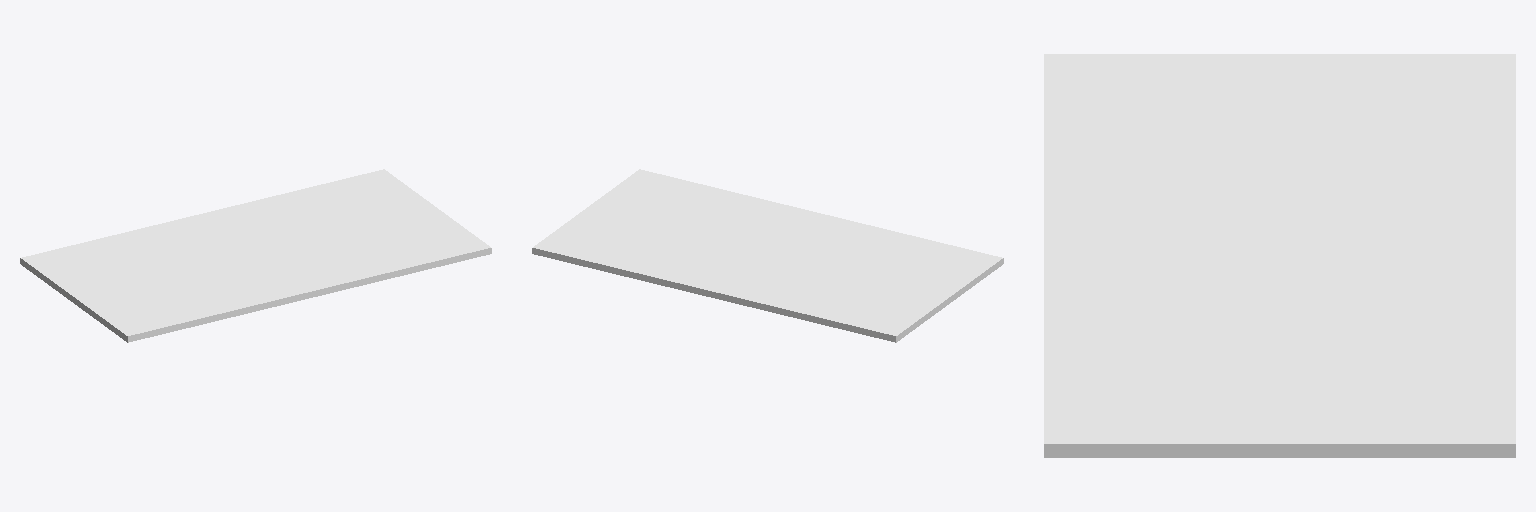
URDF robot description (wall2_3.urdf):
<?xml version="1.0" ?>
<robot name="wall2_3.urdf">
  <link name="baseLink">
    <inertial>
      <origin rpy="0 0 0" xyz="0 0 0"/>
       <mass value="0.0"/>
       <inertia ixx="0" ixy="0" ixz="0" iyy="0" iyz="0" izz="0"/>
    </inertial>
    <visual>
      <origin rpy="0 0 0" xyz="0 0 0"/>
      <geometry>
        <mesh filename="wall2_3.obj" scale="1.0 1.0 1.0"/>
      </geometry>
      <material name="white">
       <color rgba="1 1 1 1"/>
     </material>
    </visual>
    <collision concave="yes">
      <origin rpy="0 0 0" xyz="0 0 0"/>
      <geometry>
        <mesh filename="wall2_3.obj" scale="1.0 1.0 1.0"/>
        <!-- You could also specify the collision (for the wall2_3) with a "box" tag: -->
        <!-- <box size=".06 .06 .06"/> -->
      </geometry>
    </collision>
  </link>
</robot>
        

--- What the picture shows (computed from the rendered views, not written in the file) ---
Views: 3 orthographic renders of the robot side by side, from view 1: azimuth 30°, elevation 25°; view 2: azimuth 150°, elevation 25°; view 3: azimuth 270°, elevation 25°.
Model wall2_3.urdf with 1 links and 0 joints (none), rooted at baseLink, posed every joint at zero.
Visible links, largest first — view 1: baseLink; view 2: baseLink; view 3: baseLink.
Boxes of the visible links, bbox=[...] form: baseLink: bbox=[20, 169, 491, 342]; baseLink: bbox=[532, 169, 1003, 342]; baseLink: bbox=[1044, 54, 1515, 457].
Size in the robot's own frame: 5.39 by 2.75 by 0.091 metres.
1 mesh visuals loaded from 1 distinct referenced files (1 OBJ).
